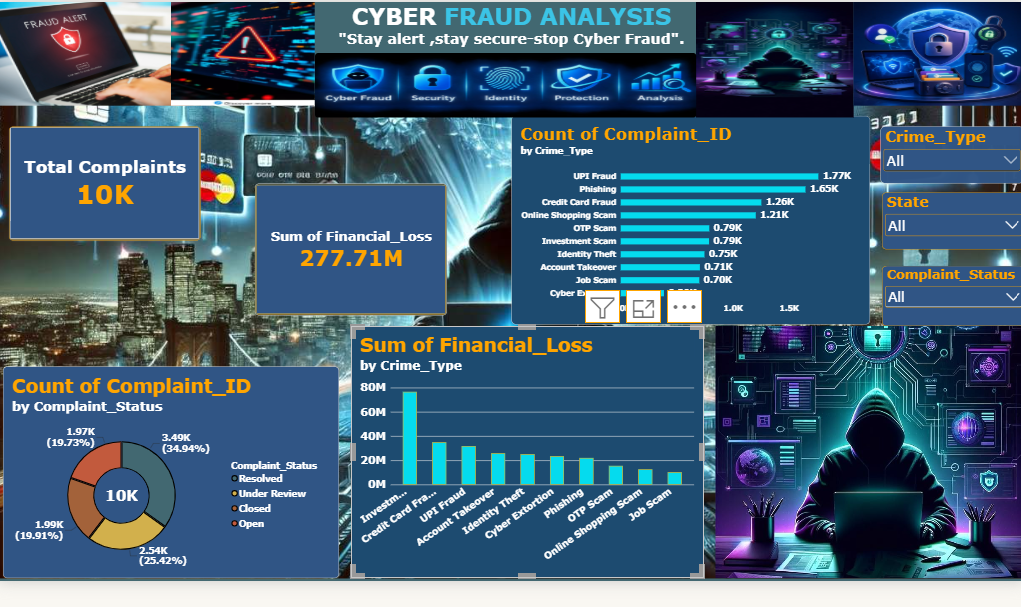

This screenshot's page, from the dashboard's own definition file:
{"tool":"powerbi","page":{"name":"Page 1","canvas":[1920,1080],"ordinal":0},"visuals":[{"type":"textbox","box":[558.4,538.6,496.9,91.5],"z":0},{"type":"textbox","box":[150,605.5,409,150],"z":1000},{"type":"textbox","box":[61.8,311.8,220.6,61.8],"z":2000},{"type":"clusteredBarChart","fields":{"Category":["cyber_fraud_db cyber_fraud_cleaned.Crime_Type"],"Y":["CountNonNull(cyber_fraud_db cyber_fraud_cleaned.Complaint_ID)"]},"box":[959.5,212.6,668.6,388.9],"z":3000},{"type":"clusteredColumnChart","fields":{"Category":["cyber_fraud_db cyber_fraud_cleaned.Crime_Type"],"Y":["Sum(cyber_fraud_db cyber_fraud_cleaned.Financial_Loss)"]},"box":[660.2,604.3,657.4,470],"z":4000},{"type":"slicer","fields":{"Values":["cyber_fraud_db cyber_fraud_cleaned.Crime_Type"]},"box":[1647.7,232.2,268.6,106.3],"z":5000},{"type":"textbox","box":[2.8,0,1913.4,170.1],"z":6000},{"type":"image","box":[0,0,380.4,193.1],"z":7000},{"type":"slicer","fields":{"Values":["cyber_fraud_db cyber_fraud_cleaned.State"]},"box":[1650.5,355.3,268.6,106.3],"z":8000},{"type":"slicer","fields":{"Values":["cyber_fraud_db cyber_fraud_cleaned.Complaint_Status"]},"box":[1650.5,492.4,268.6,111.9],"z":9000},{"type":"donutChart","fields":{"Category":["cyber_fraud_db cyber_fraud_cleaned.Complaint_Status"],"Y":["CountNonNull(cyber_fraud_db cyber_fraud_cleaned.Complaint_ID)"]},"box":[11.2,679.8,626.6,394.4],"z":10000},{"type":"image","box":[1303.6,0,293.7,215.4],"z":11000},{"type":"image","box":[325.6,0,268,193.1],"z":12000},{"type":"image","box":[1596.3,0,319.8,193.1],"z":13000},{"type":"cardVisual","fields":{"Data":["cyber_fraud_db cyber_fraud_cleaned.Total Complaints"]},"box":[22.4,232.2,357.2,212.6],"z":15000},{"type":"image","box":[593.9,95.3,711.6,120.5],"z":16000},{"type":"cardVisual","fields":{"Data":["Sum(cyber_fraud_db cyber_fraud_cleaned.Financial_Loss)"]},"box":[481.2,338.5,358.1,246.2],"z":17000},{"type":"image","box":[1340,604.3,576.3,470],"z":17001}]}

Visuals, with their boxes on the page's 1920x1080 design canvas (x1, y1, x2, y2). These are canvas units, not pixel positions in the 1021x607 screenshot, which may show the page scaled, cropped or inside an application window:
textbox: Rect(558, 539, 1055, 630)
textbox: Rect(150, 606, 559, 756)
textbox: Rect(62, 312, 282, 374)
clusteredBarChart - cyber_fraud_db cyber_fraud_cleaned.Crime_Type x CountNonNull(cyber_fraud_db cyber_fraud_cleaned.Complaint_ID): Rect(960, 213, 1628, 602)
clusteredColumnChart - cyber_fraud_db cyber_fraud_cleaned.Crime_Type x Sum(cyber_fraud_db cyber_fraud_cleaned.Financial_Loss): Rect(660, 604, 1318, 1074)
slicer - cyber_fraud_db cyber_fraud_cleaned.Crime_Type: Rect(1648, 232, 1916, 338)
textbox: Rect(3, 0, 1916, 170)
image: Rect(0, 0, 380, 193)
slicer - cyber_fraud_db cyber_fraud_cleaned.State: Rect(1650, 355, 1919, 462)
slicer - cyber_fraud_db cyber_fraud_cleaned.Complaint_Status: Rect(1650, 492, 1919, 604)
donutChart - cyber_fraud_db cyber_fraud_cleaned.Complaint_Status x CountNonNull(cyber_fraud_db cyber_fraud_cleaned.Complaint_ID): Rect(11, 680, 638, 1074)
image: Rect(1304, 0, 1597, 215)
image: Rect(326, 0, 594, 193)
image: Rect(1596, 0, 1916, 193)
cardVisual - cyber_fraud_db cyber_fraud_cleaned.Total Complaints: Rect(22, 232, 380, 445)
image: Rect(594, 95, 1306, 216)
cardVisual - Sum(cyber_fraud_db cyber_fraud_cleaned.Financial_Loss): Rect(481, 338, 839, 585)
image: Rect(1340, 604, 1916, 1074)
